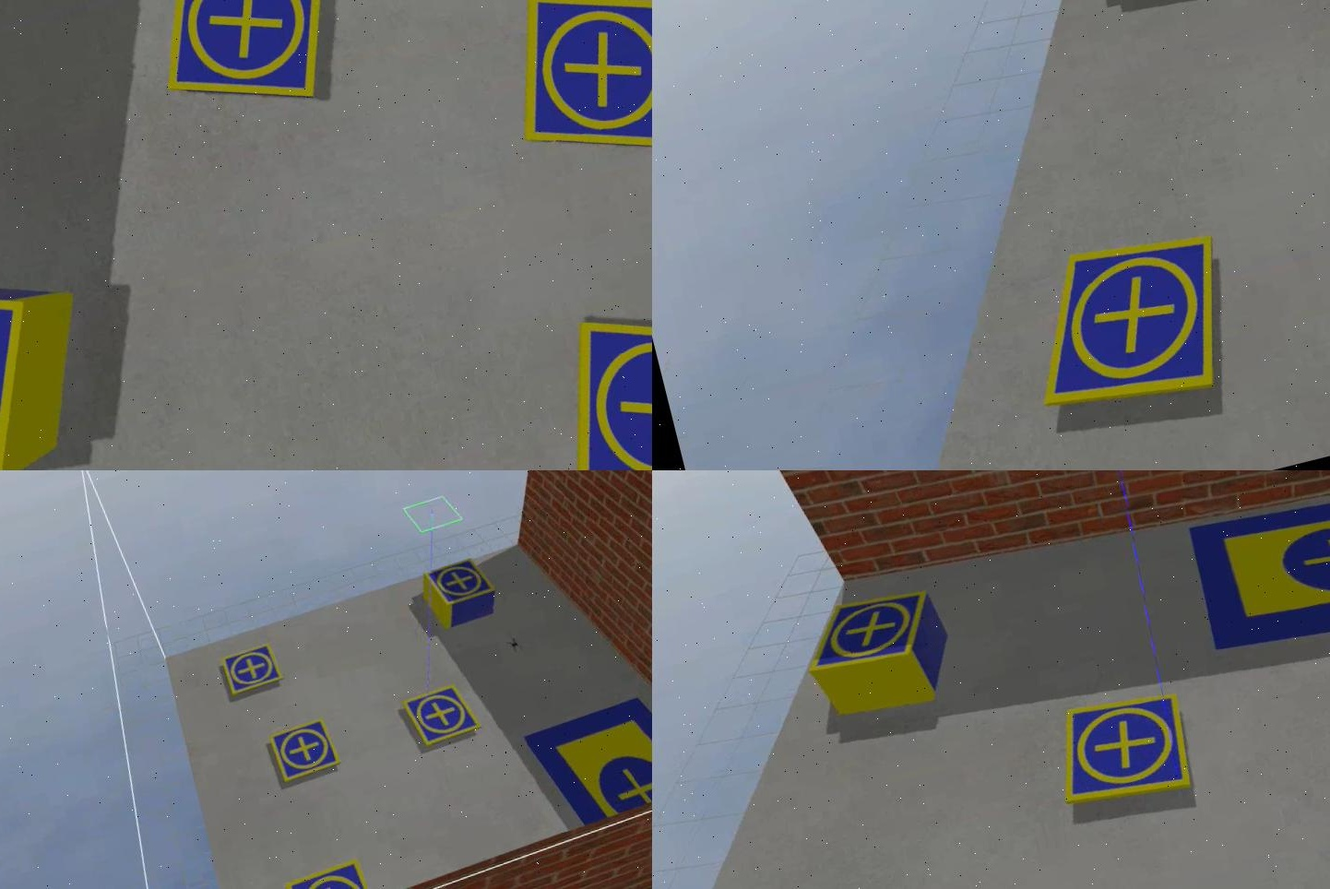large_base: (1182, 471, 1328, 679), (519, 683, 651, 837)
small_base: (1015, 225, 1246, 430), (485, 1, 651, 186), (137, 1, 355, 133), (1044, 684, 1200, 820), (542, 284, 651, 471), (0, 255, 71, 471), (792, 583, 942, 683), (399, 682, 481, 750), (266, 717, 340, 787), (421, 554, 493, 608), (218, 642, 282, 698), (282, 860, 373, 889)
